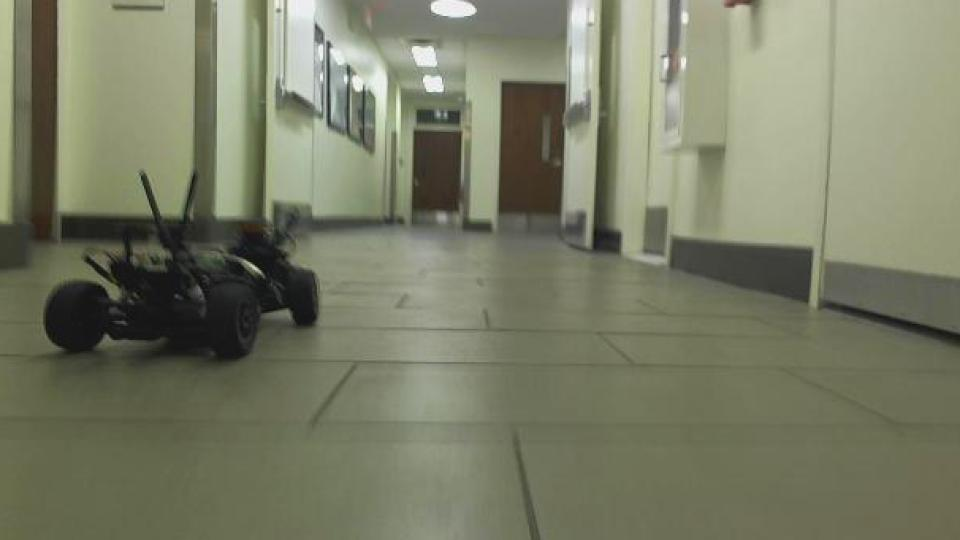car: (41, 166, 323, 364)
